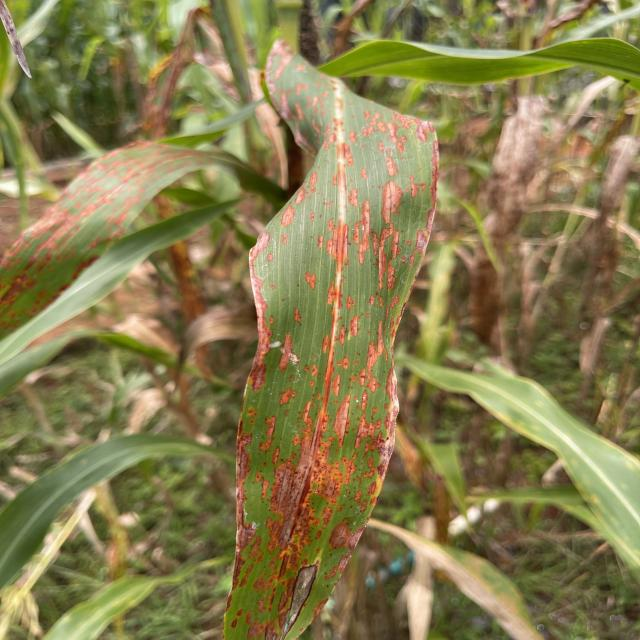millet_healthy: (0, 434, 231, 588), (318, 37, 640, 89)
millet_rust: (224, 40, 438, 640), (0, 141, 217, 338)
